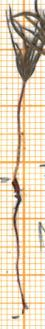flower: (0, 0, 45, 83)
root: (8, 180, 30, 317)
stem: (10, 81, 31, 180)
